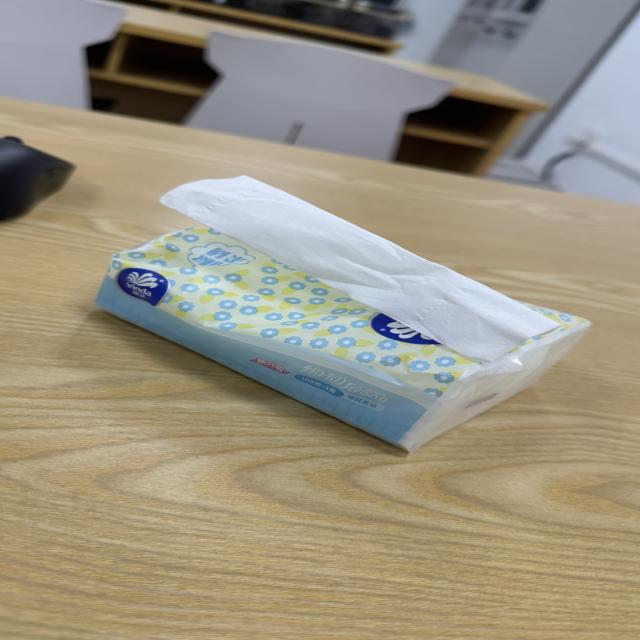tissue: (97, 226, 589, 451), (161, 177, 558, 362)
